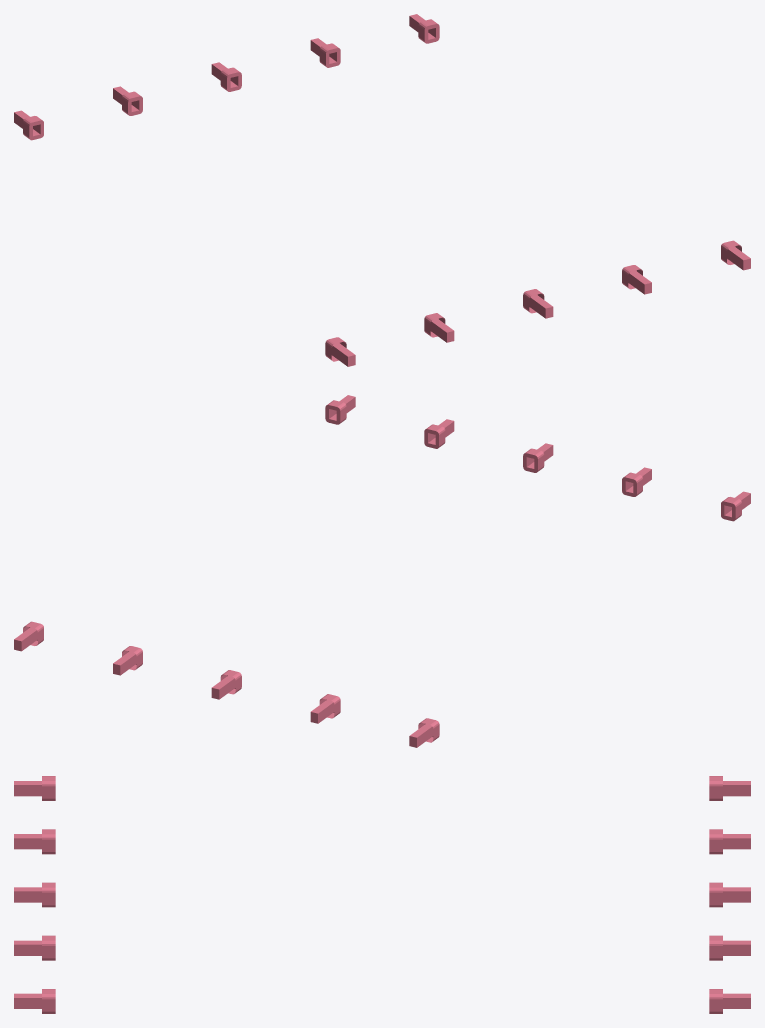
File: New_Big_Trap_Lasers.fbx
The picture shows the model from 3 angles, top to bottom: view 1: azimuth 30°, elevation 25°; view 2: azimuth 150°, elevation 25°; view 3: azimuth 270°, elevation 25°; orthographic projection. The views are drawn at different scales.
Parts seen in each view (by area): view 1: Cube.008; view 2: Cube.008; view 3: Cube.008.
Boxes of the visible parts, box(x1,y1,x2,y2) form: Cube.008: box(14, 14, 750, 366); Cube.008: box(14, 395, 750, 747); Cube.008: box(14, 776, 750, 1013).
Bounding box in the file's own units: 690 × 28.5 × 973.
